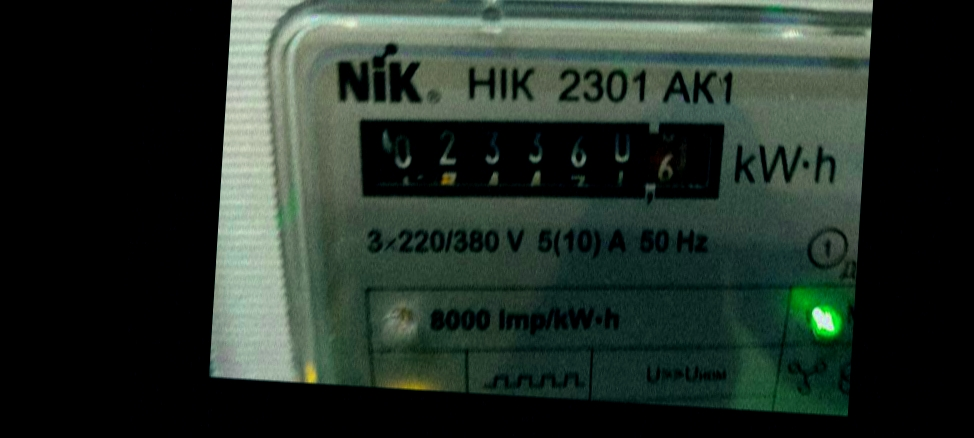0: (388, 128, 415, 171), (609, 126, 634, 165)
2: (432, 125, 461, 166)
3: (479, 125, 503, 167), (521, 126, 546, 165)
6: (563, 129, 592, 171), (654, 148, 678, 185)
screen: (332, 86, 739, 228)
